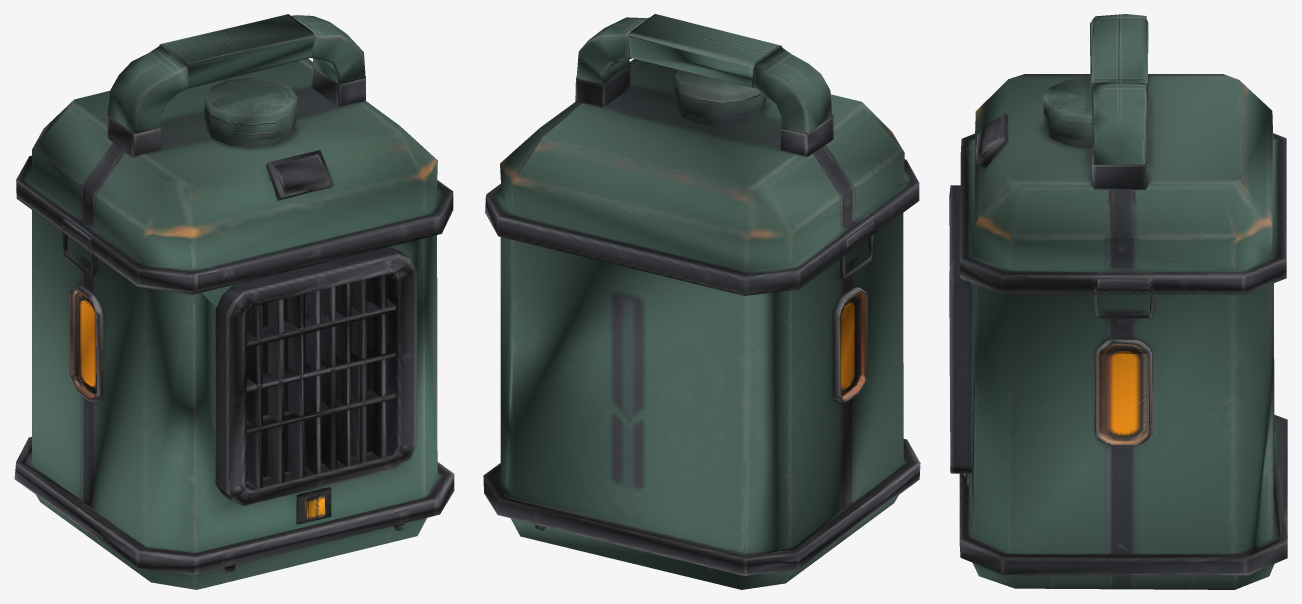
The picture shows the model from 3 angles, left to right: view 1: azimuth 30°, elevation 25°; view 2: azimuth 150°, elevation 25°; view 3: azimuth 270°, elevation 25°; orthographic projection.
Parts seen in each view (by area): view 1: Mesh_0; view 2: Mesh_0; view 3: Mesh_0.
Part boxes in pixels (left/top/right/bottom): Mesh_0: left=14, top=14, right=454, bottom=589; Mesh_0: left=483, top=14, right=920, bottom=589; Mesh_0: left=949, top=14, right=1287, bottom=589.
Bounding box in the file's own units: 70.9 × 100 × 64.84.
Materials: 1 (1 with a texture image).
